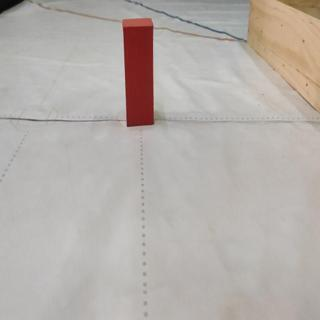redbox: (122, 17, 156, 128)
